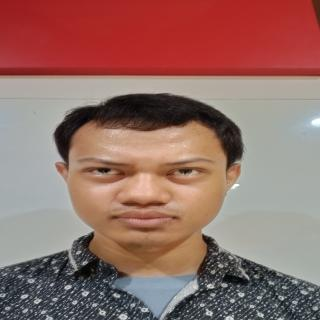Marah: (64, 118, 246, 250)
